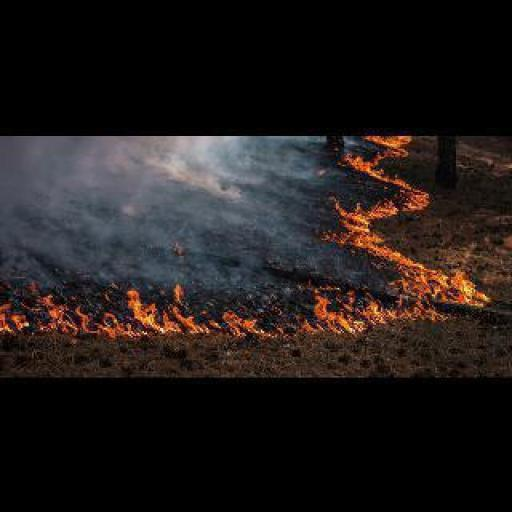smoke: (315, 134, 442, 272)
